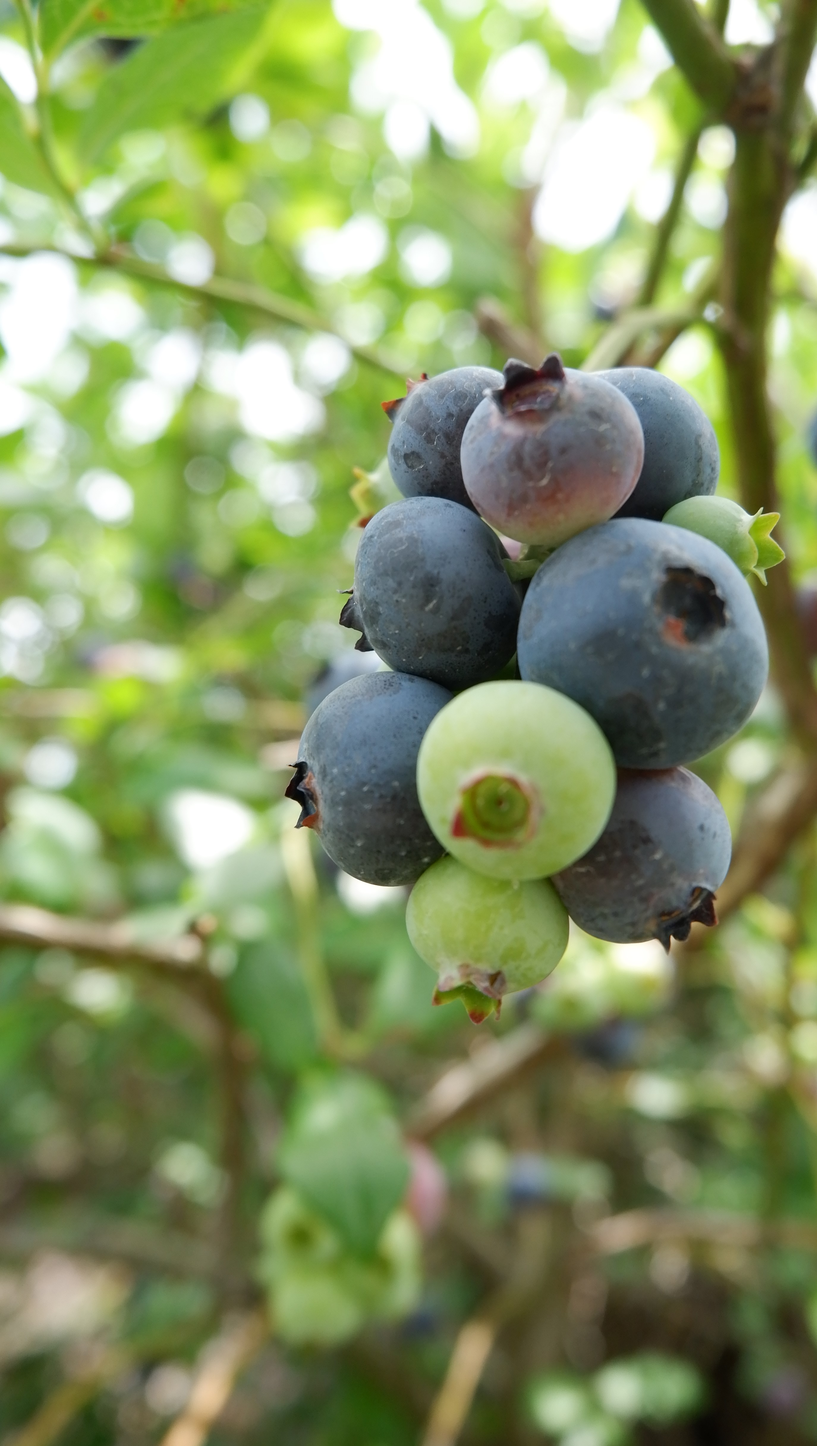Immature: (422, 683, 610, 880), (465, 360, 639, 539), (410, 859, 563, 1015), (665, 496, 781, 572)
Mature: (527, 518, 762, 766), (291, 673, 446, 885), (345, 498, 518, 685), (556, 770, 730, 944), (599, 369, 714, 516), (385, 367, 498, 506), (558, 528, 569, 529)
